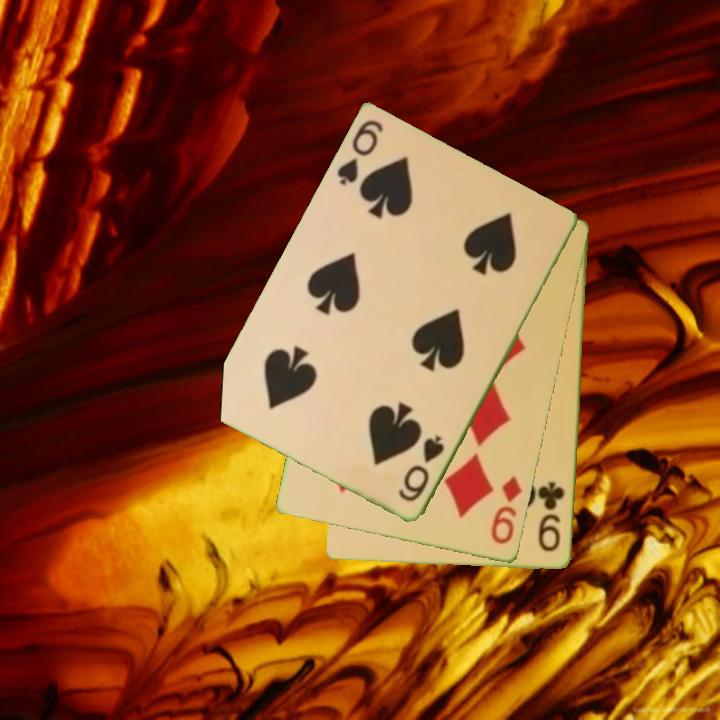6s: (394, 432, 448, 506), (333, 116, 387, 189)
9c: (536, 478, 568, 555)
9d: (487, 472, 526, 548)
